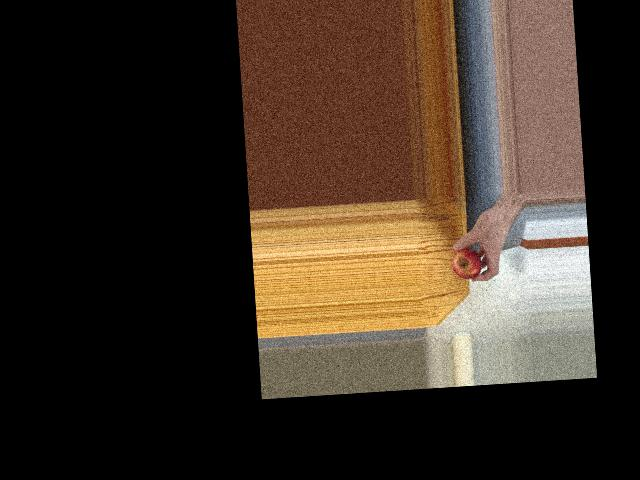apple: (448, 238, 488, 282)
